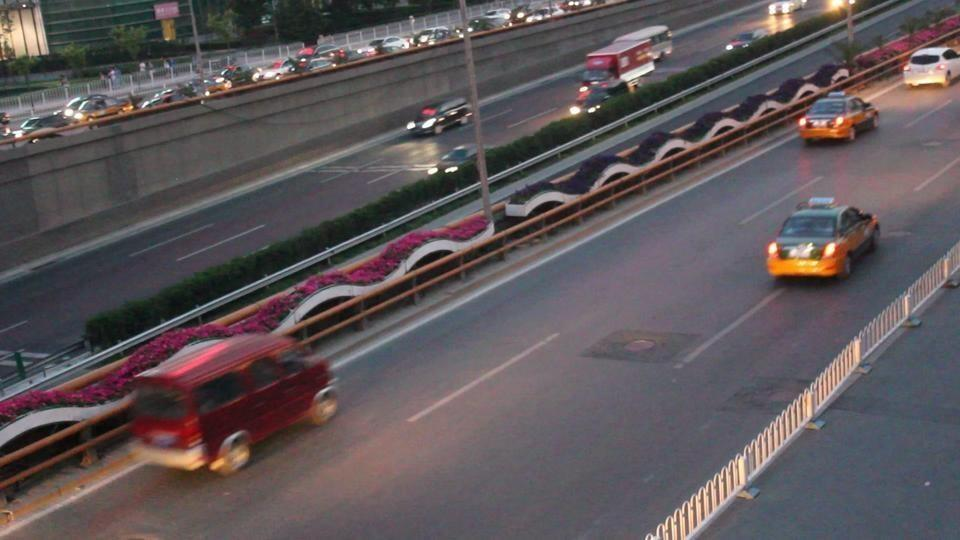car: (126, 332, 341, 475), (765, 205, 881, 280), (797, 92, 881, 143), (407, 95, 471, 137), (902, 47, 960, 89), (4, 115, 70, 142), (62, 96, 113, 123), (435, 145, 477, 174), (725, 28, 770, 52), (137, 88, 180, 110), (261, 58, 299, 78), (412, 28, 452, 46), (300, 56, 338, 74), (196, 76, 231, 95), (336, 45, 377, 61), (376, 35, 410, 53)
